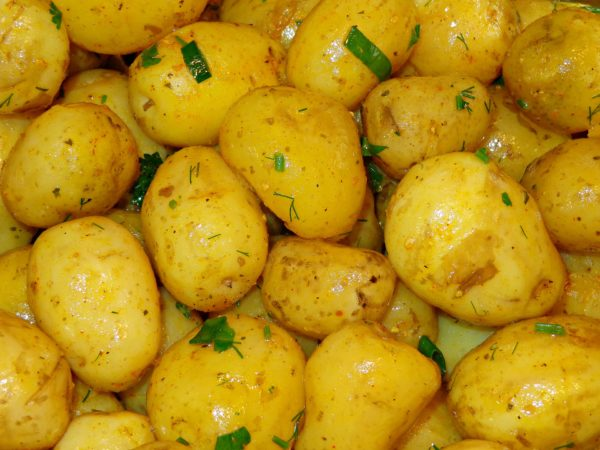boiled potatoes: (22, 218, 161, 381), (229, 80, 371, 237), (399, 167, 545, 313), (151, 312, 322, 436), (449, 324, 600, 445), (144, 144, 257, 302), (127, 42, 290, 139), (17, 103, 129, 229), (303, 343, 434, 450), (375, 73, 513, 164), (265, 244, 389, 330), (298, 1, 416, 91), (519, 22, 600, 141), (1, 309, 73, 436), (538, 138, 600, 245)
